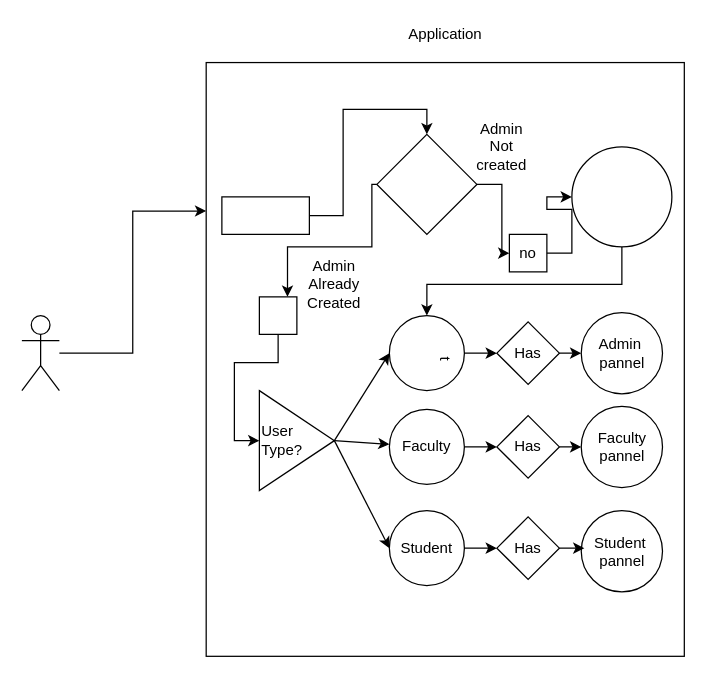
The diagram is 706 pixels wide and 679 high, and some of its shapes have lost their labels. The centre of each missing label's shape, as x and y in pixels:
"Admin" goes at point (426, 352).
"Check user" goes at point (426, 183).
"New Admin" goes at point (621, 196).
"New User?" goes at point (265, 215).
"User" goes at point (40, 352).
"yes" goes at point (277, 315).
